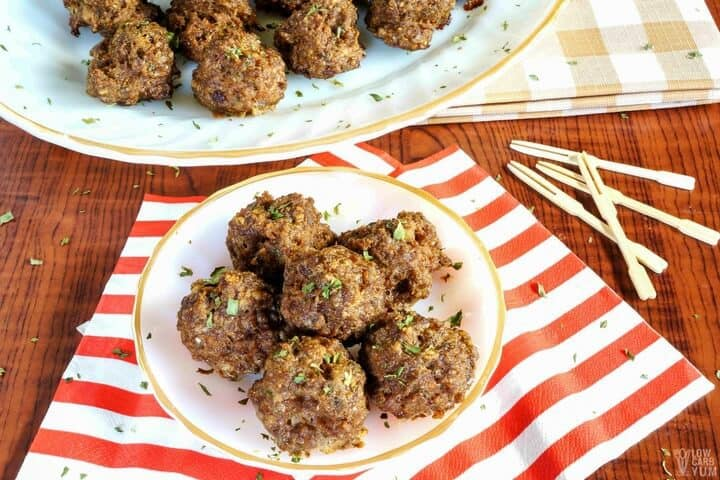meatballs: (187, 194, 466, 427), (79, 1, 454, 99)
